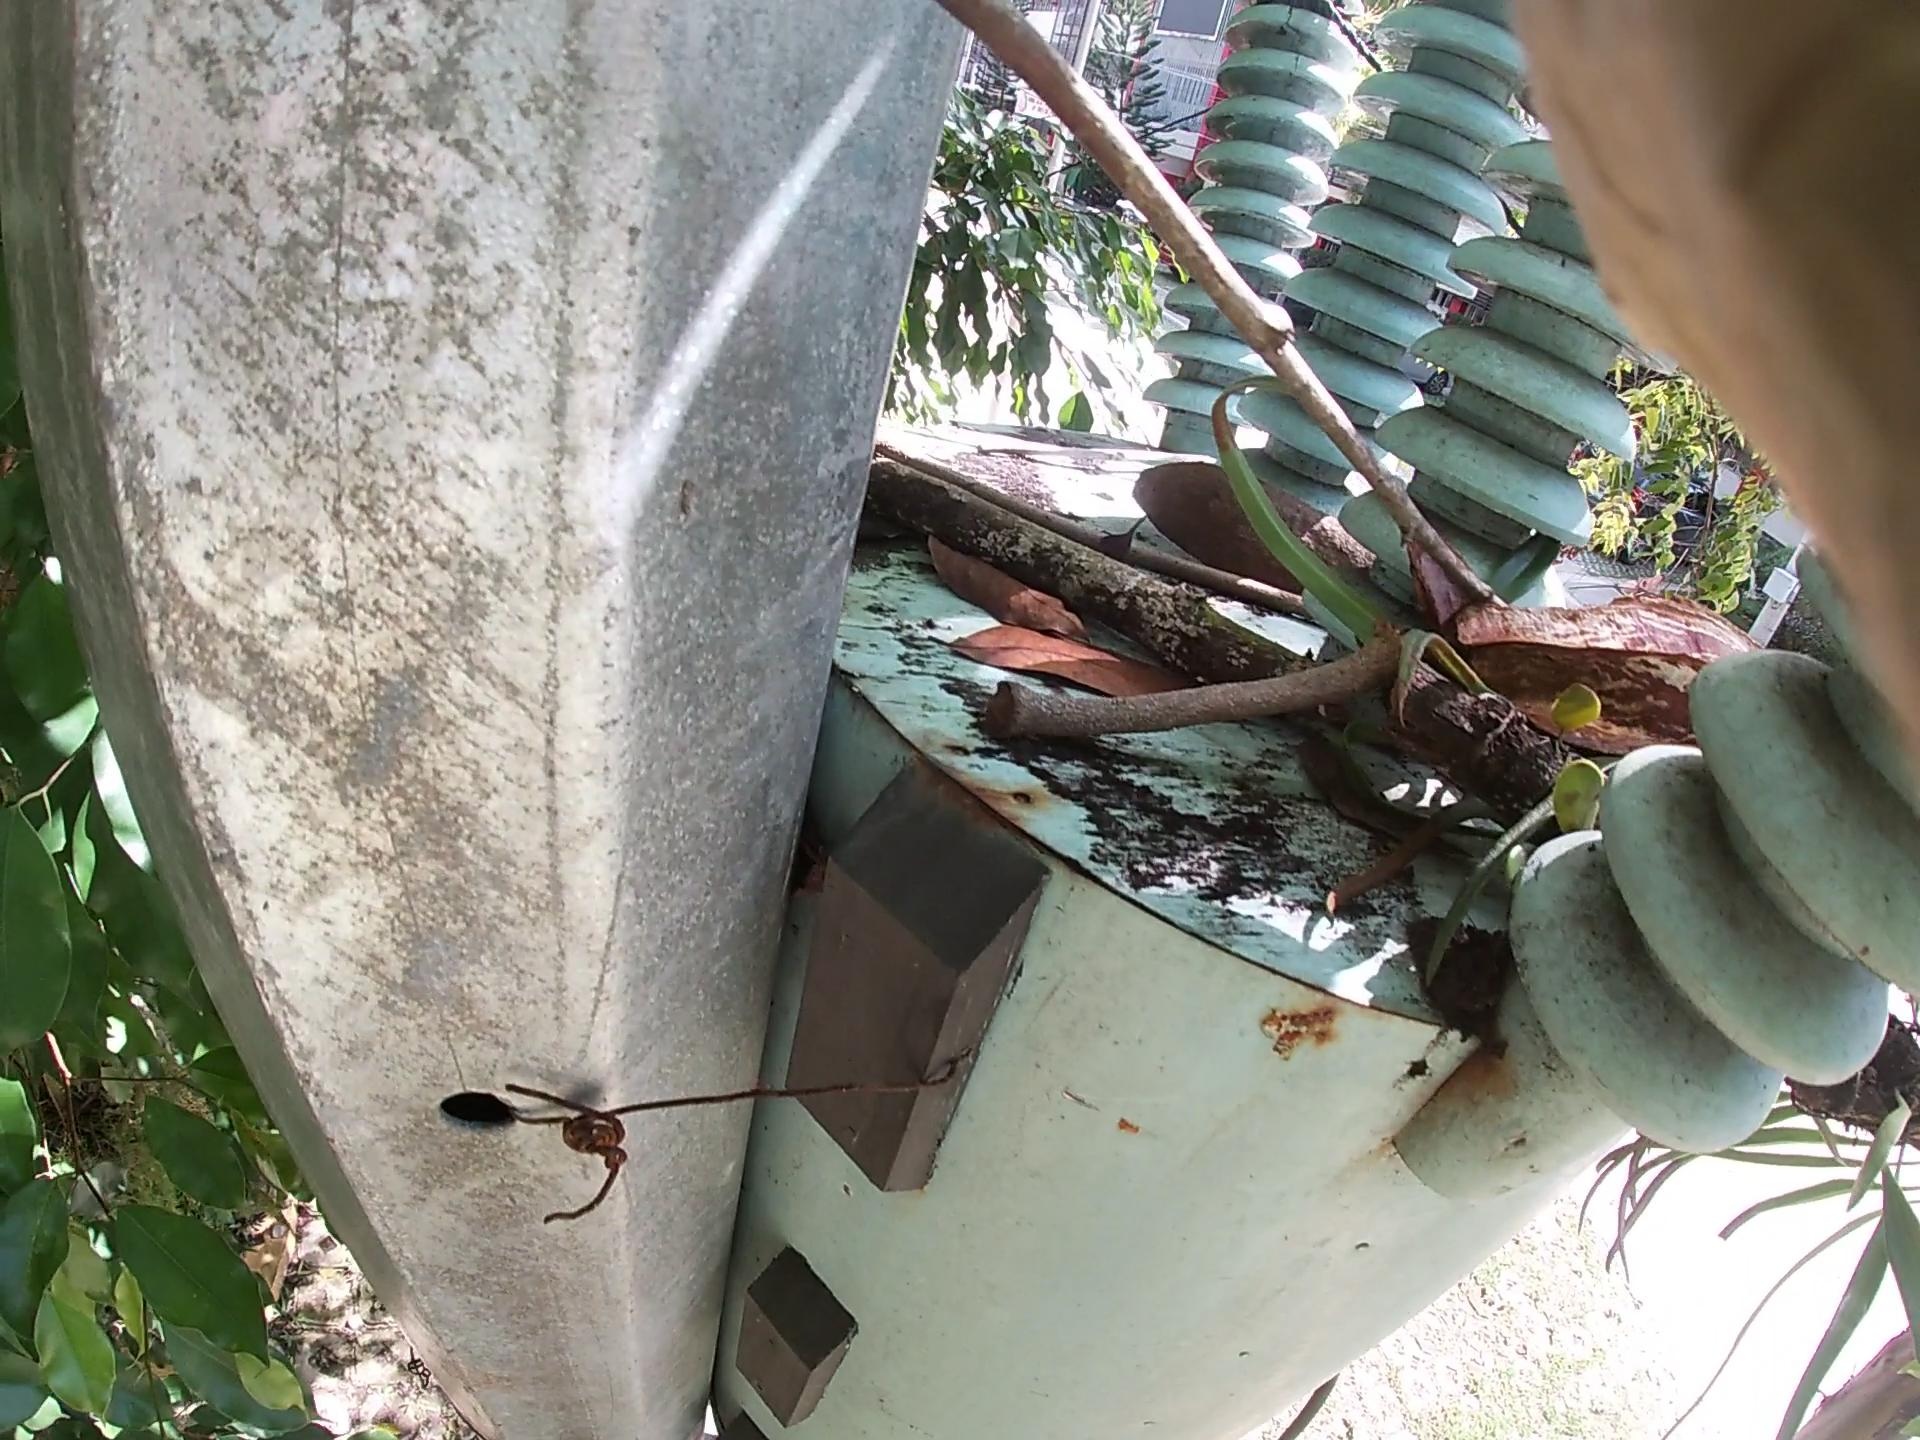branch with leaves: (868, 404, 1870, 1142)
leaf: (943, 554, 1184, 777)
mahogany fruit: (1439, 504, 1837, 811), (1085, 417, 1445, 678)
tree branch: (943, 6, 1465, 669), (990, 542, 1430, 892), (877, 384, 1317, 637)
